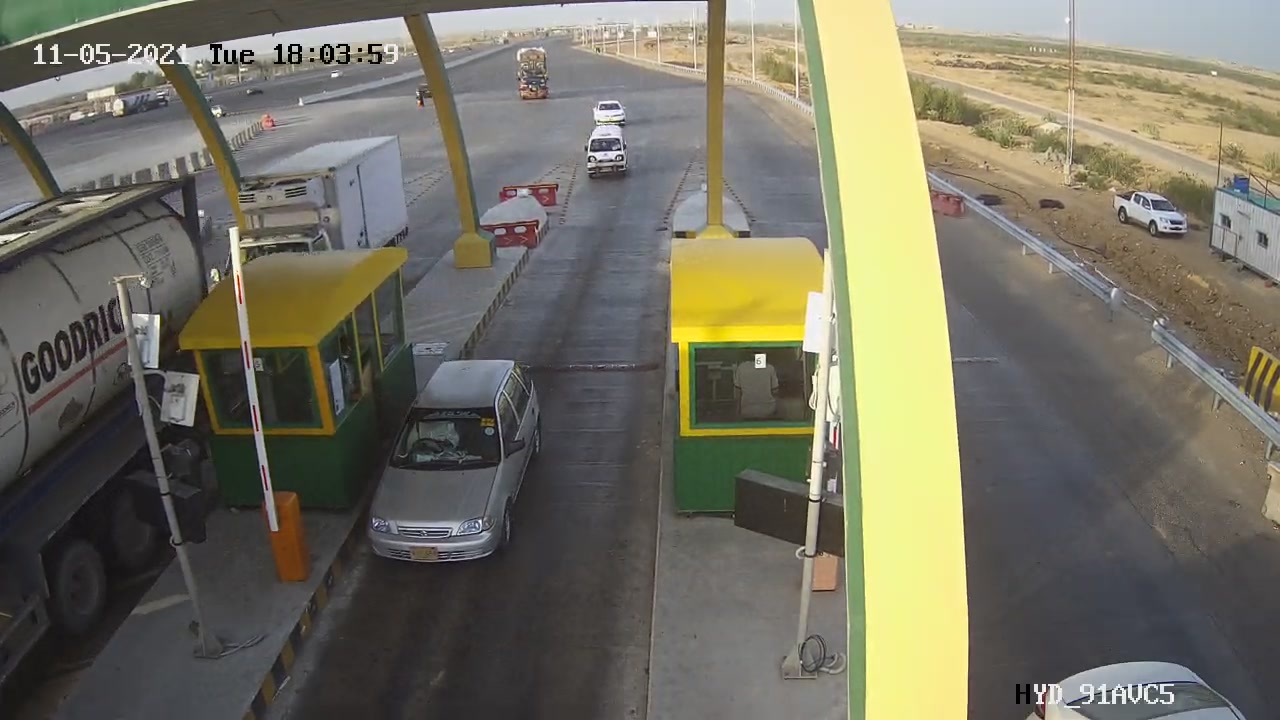F1: (348, 348, 576, 585)
